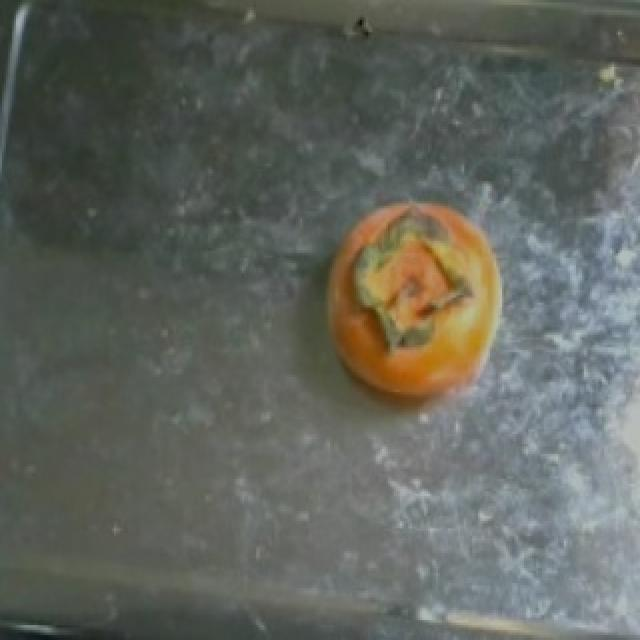Fruit: (300, 181, 524, 422)
